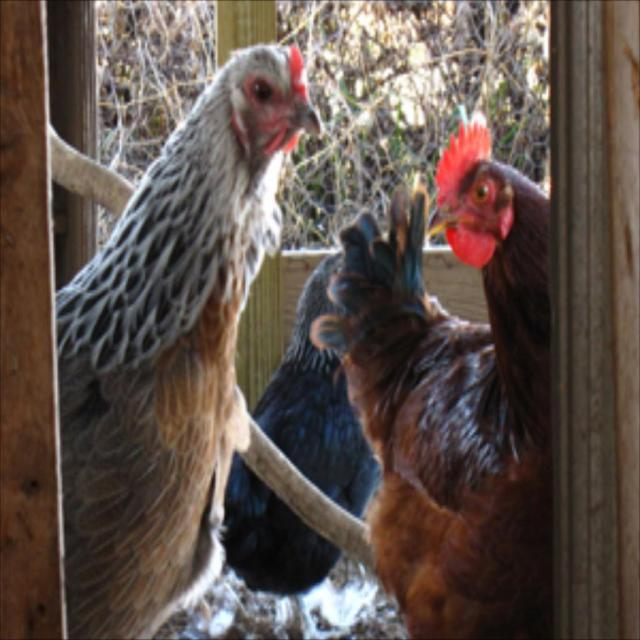Chicken: (45, 43, 324, 637), (328, 117, 552, 637)
